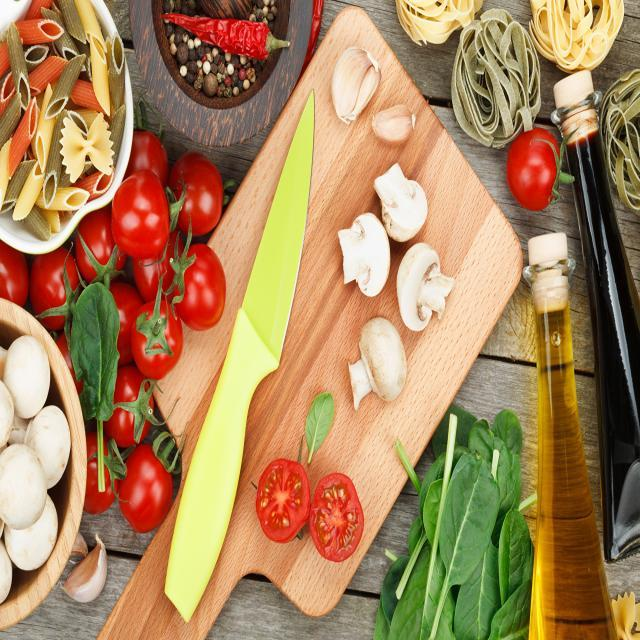garlic: (335, 41, 417, 151), (61, 538, 112, 610)
tomato: (110, 173, 168, 263), (507, 124, 563, 215), (175, 248, 231, 324), (121, 451, 175, 529), (169, 157, 221, 229), (23, 265, 81, 329), (110, 367, 156, 447), (136, 303, 184, 373), (83, 222, 121, 288)
